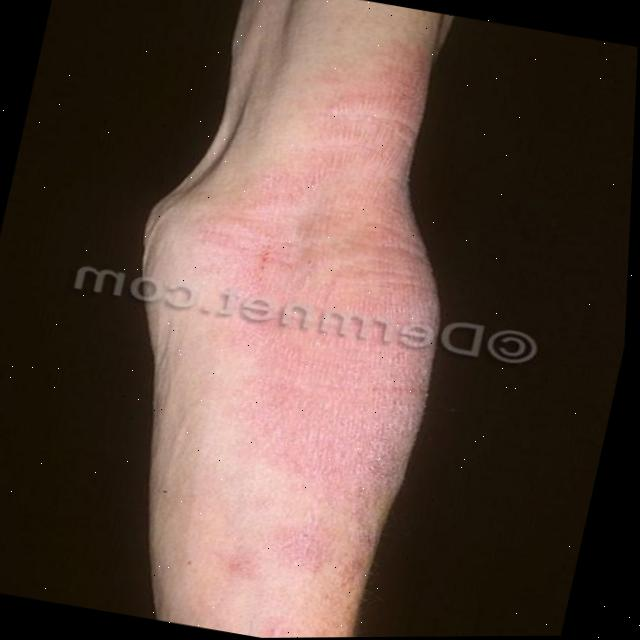Eczema: (138, 11, 511, 621)
